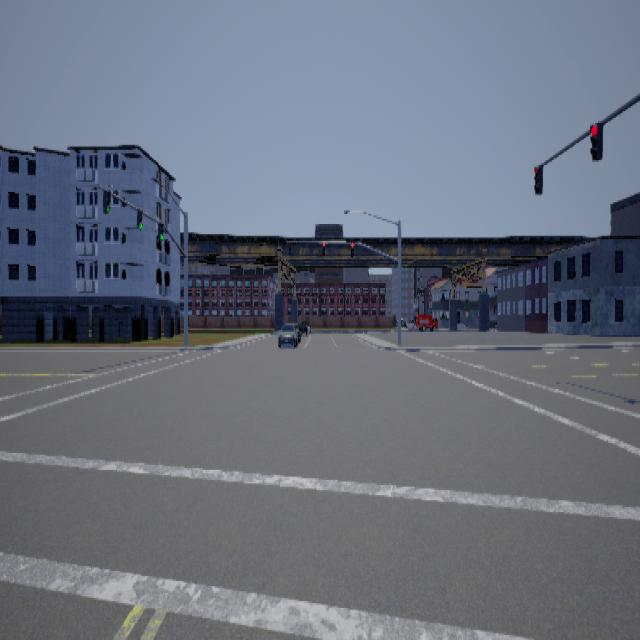green_light: (102, 189, 110, 212), (136, 207, 142, 229), (157, 221, 163, 239)
red_light: (589, 120, 602, 160), (533, 163, 542, 194), (350, 241, 353, 256), (322, 241, 324, 255), (288, 241, 290, 254)
vehicle: (277, 320, 310, 347)
